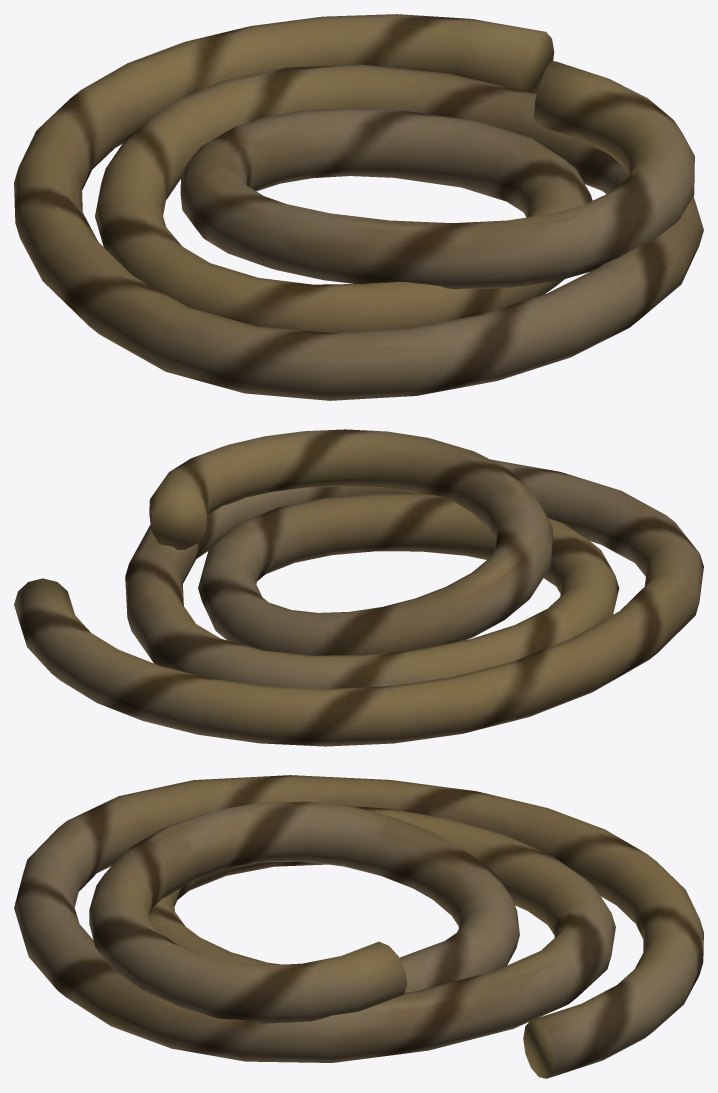
The model's file is Rope_1.gltf.
The picture shows the model from 3 angles, top to bottom: view 1: azimuth 30°, elevation 25°; view 2: azimuth 150°, elevation 25°; view 3: azimuth 270°, elevation 25°; orthographic projection. The views are drawn at different scales.
Parts seen in each view (by area): view 1: Rope_1; view 2: Rope_1; view 3: Rope_1.
Part boxes in pixels (left/top/right/bottom): Rope_1: left=14, top=14, right=703, bottom=400; Rope_1: left=14, top=429, right=703, bottom=746; Rope_1: left=14, top=775, right=703, bottom=1078.
Size of the model in its own units: 0.5574 by 0.0979 by 0.6063.
1 material, 1 textured.
